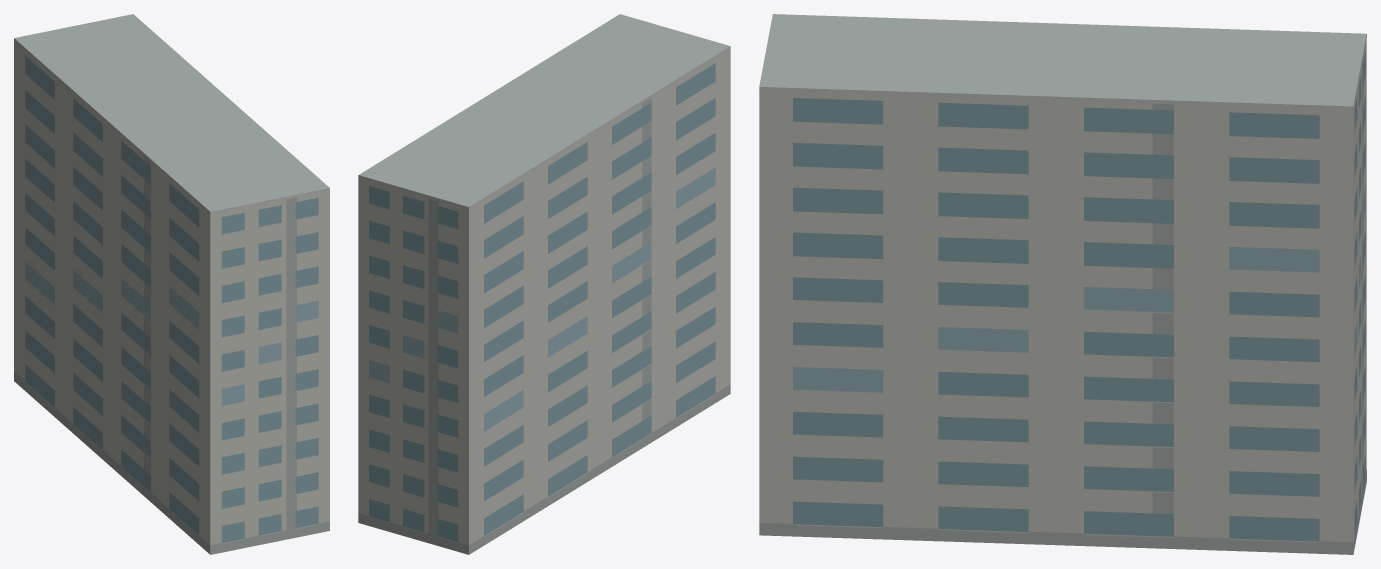
The model's file is residential-72410098-8548-41da-bd41-bb4bab6ae4e6.glb.
The picture shows the model from 3 angles, left to right: view 1: azimuth 30°, elevation 25°; view 2: azimuth 150°, elevation 25°; view 3: azimuth 270°, elevation 25°; orthographic projection. The views are drawn at different scales.
Parts seen in each view (by area): view 1: residential-72410098-8548-41da-bd41-bb4bab6ae4e6.tmp; view 2: residential-72410098-8548-41da-bd41-bb4bab6ae4e6.tmp; view 3: residential-72410098-8548-41da-bd41-bb4bab6ae4e6.tmp.
Boxes of the visible parts, box(x1,y1,x2,y2) form: residential-72410098-8548-41da-bd41-bb4bab6ae4e6.tmp: box(14, 14, 329, 554); residential-72410098-8548-41da-bd41-bb4bab6ae4e6.tmp: box(358, 14, 730, 554); residential-72410098-8548-41da-bd41-bb4bab6ae4e6.tmp: box(759, 14, 1366, 554).
Size of the model in its own units: 12.39 by 28 by 34.39.
